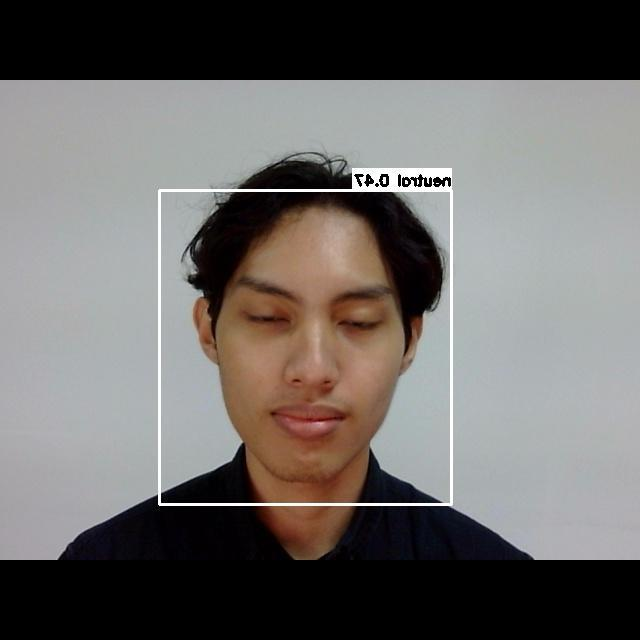Natural: (215, 263, 406, 473)
